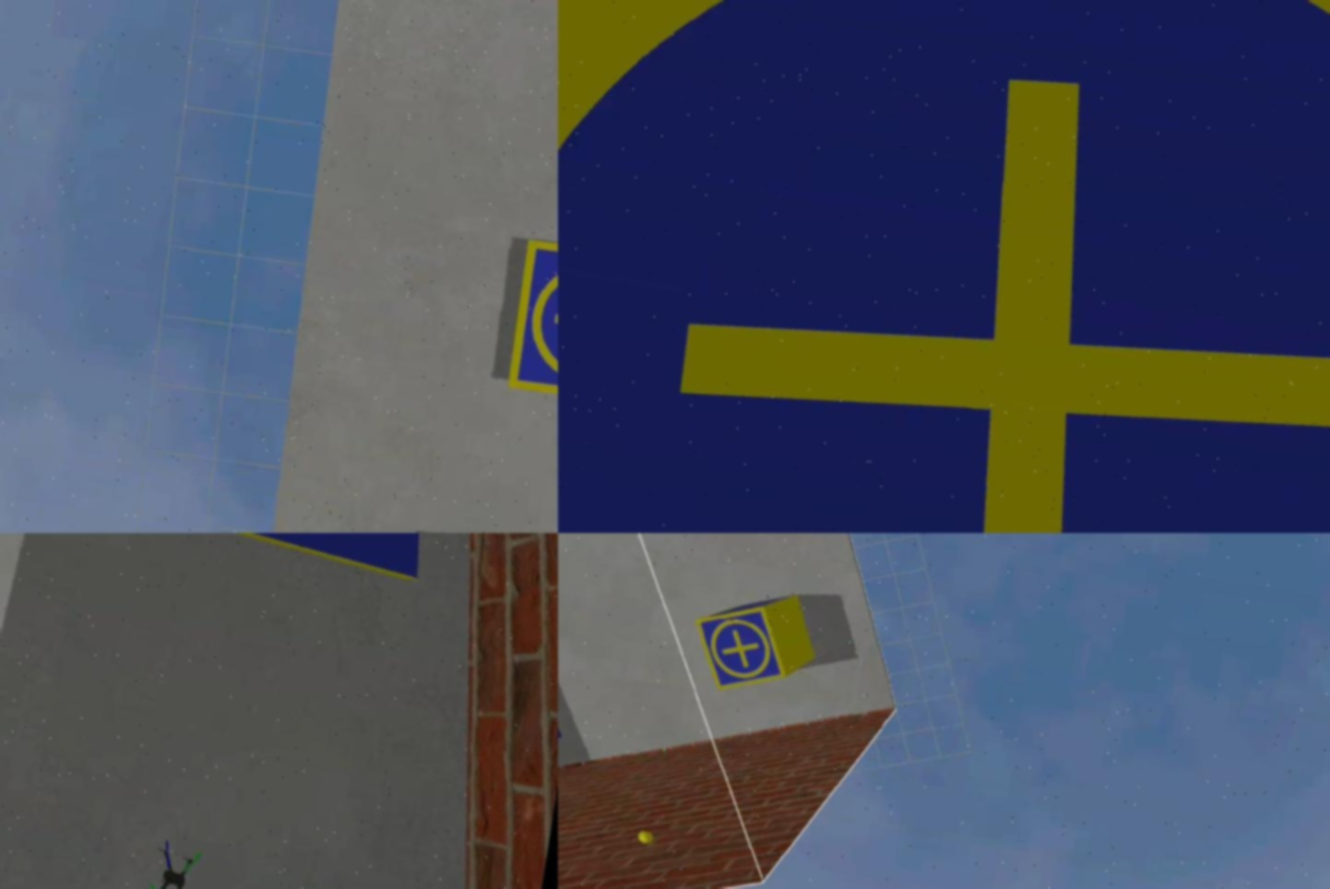large_base: (558, 1, 1330, 534)
small_base: (689, 598, 797, 699), (505, 238, 558, 415)
